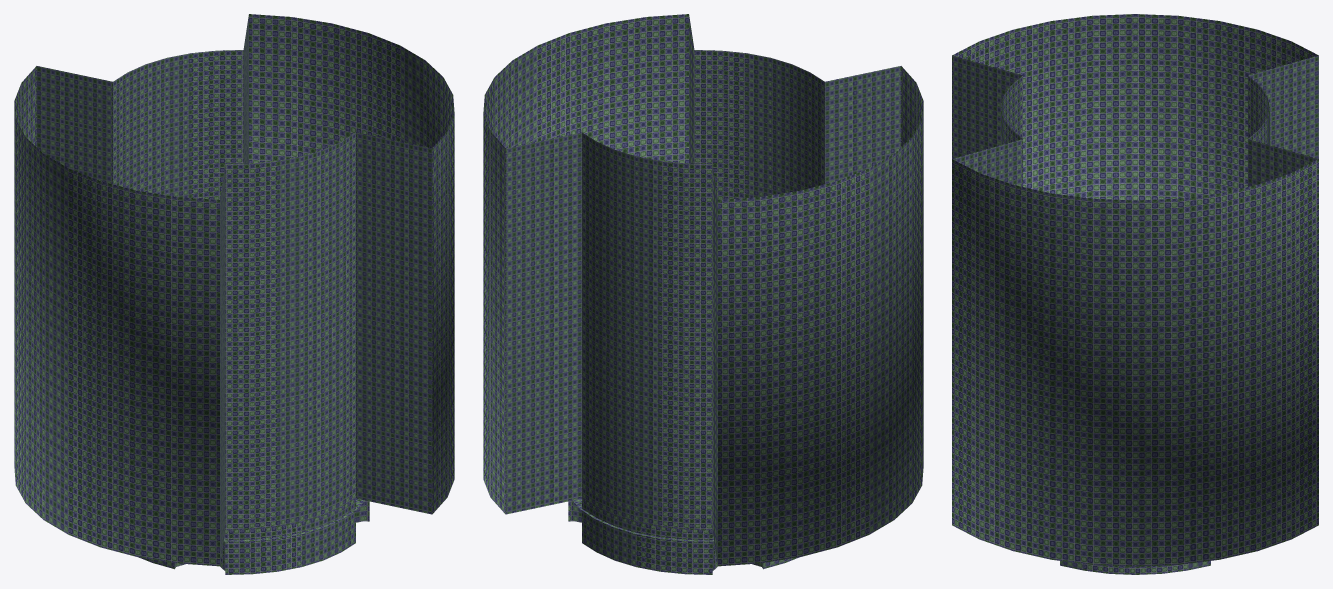
Rendered from Piatt_lancio_agg.FBX.
3 views of the same model, side by side, from view 1: azimuth 30°, elevation 25°; view 2: azimuth 150°, elevation 25°; view 3: azimuth 270°, elevation 25° (orthographic).
Visible parts, largest first — view 1: Shape037; view 2: Shape037; view 3: Shape037.
Boxes of the visible parts, x1,y1,x2,y2 form: Shape037: (14,14,454,574); Shape037: (483,14,923,574); Shape037: (952,14,1318,574).
Bounding box in the file's own units: 898 × 923 × 746.
1 material, 1 textured.
